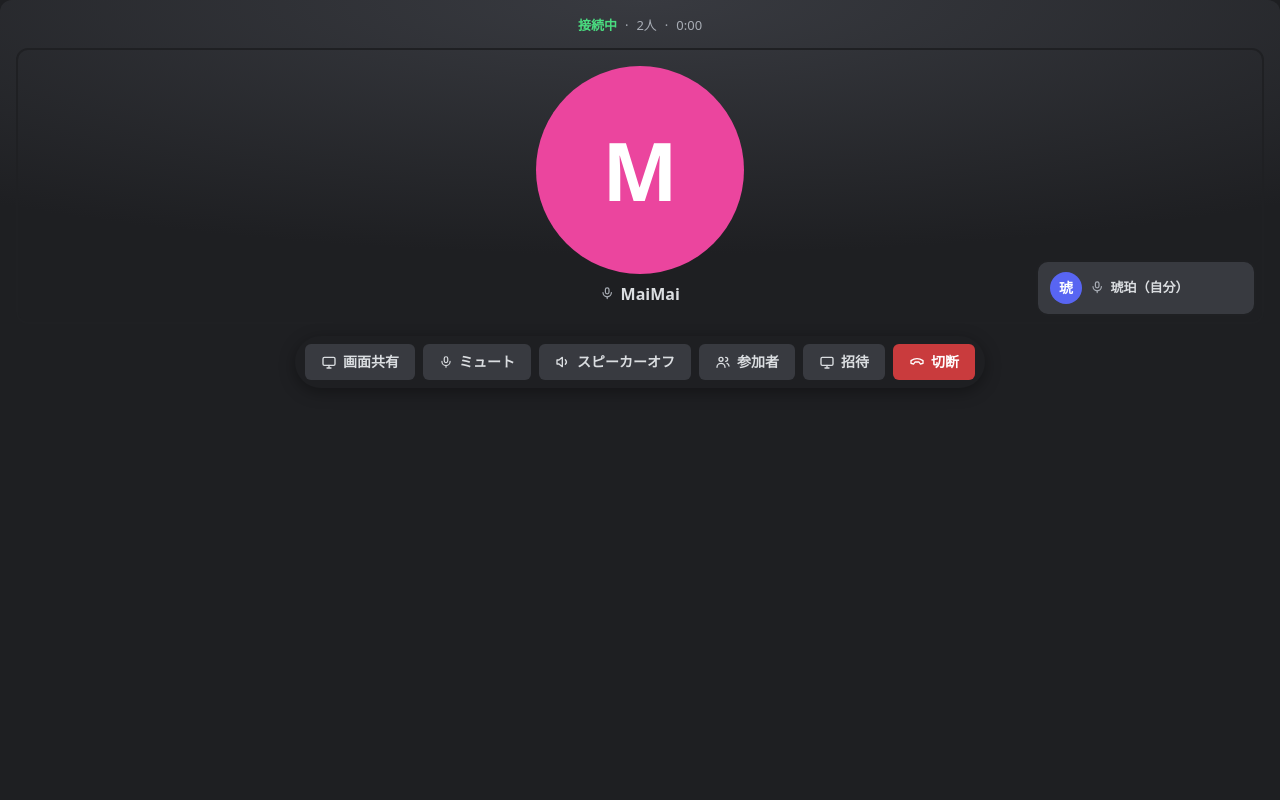
Scenario: 通話ステージ（DM通話とVCの共通部品） › 画面共有を押すと共有中の表示になり、もう一度で戻る
Click the button "画面共有": [360, 362] box [305,344,415,380]
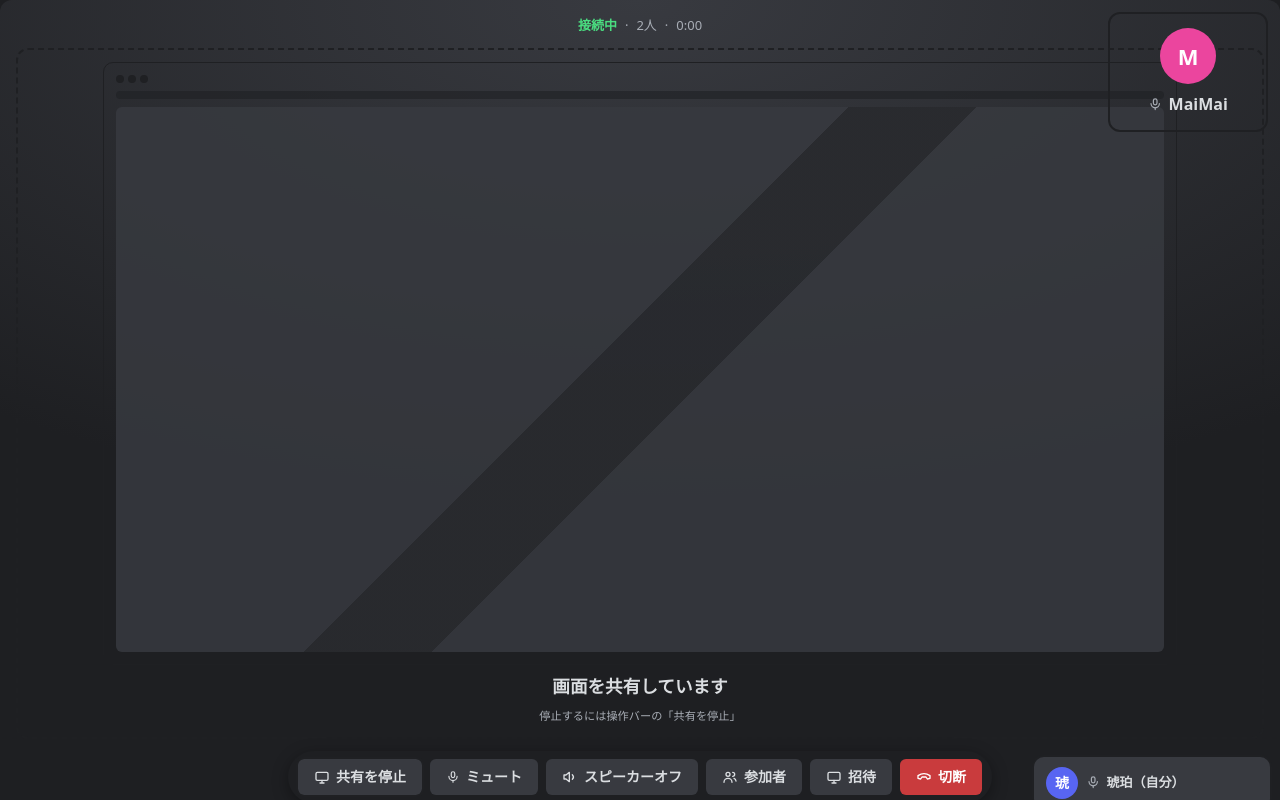
Check: the text "画面を共有しています" is shown, box [552,673,728,700]
Click the button "共有を停止": [360, 777] box [298,759,422,795]
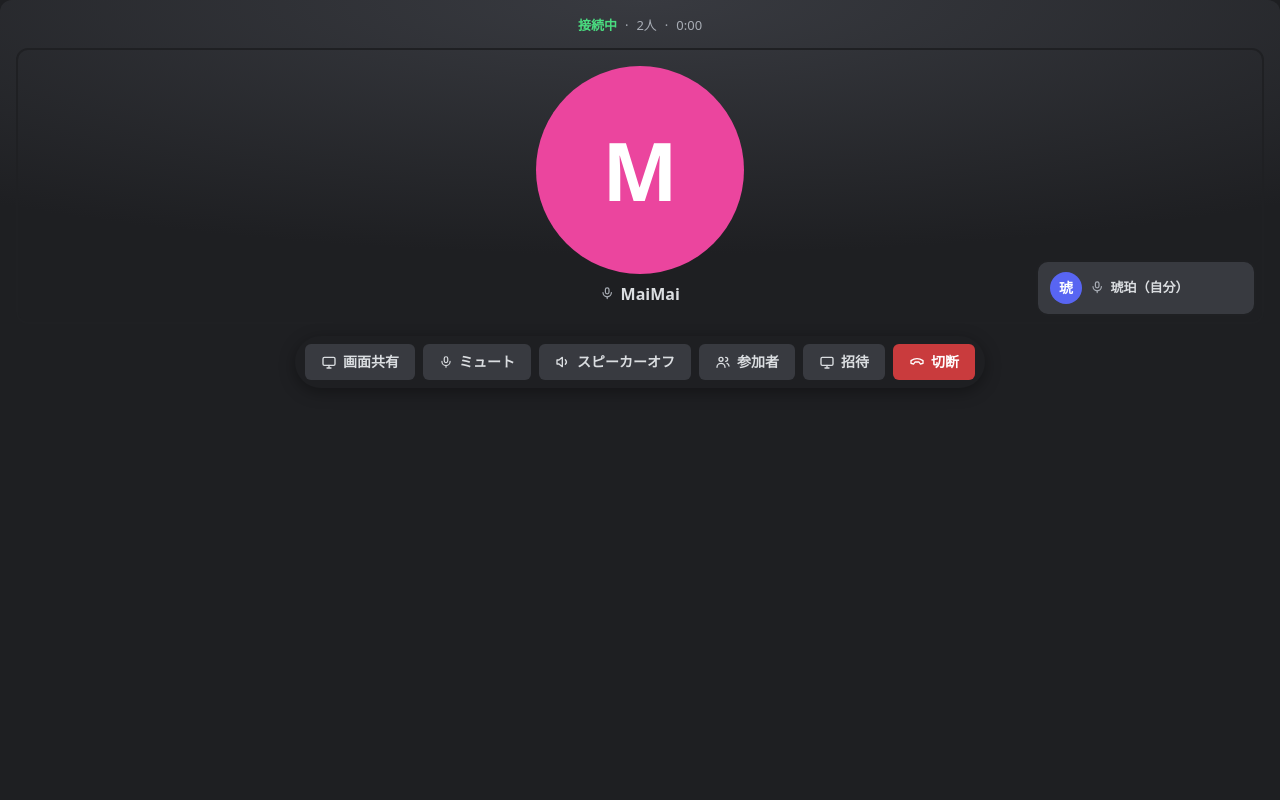
Check: the text "画面を共有しています" is gone
